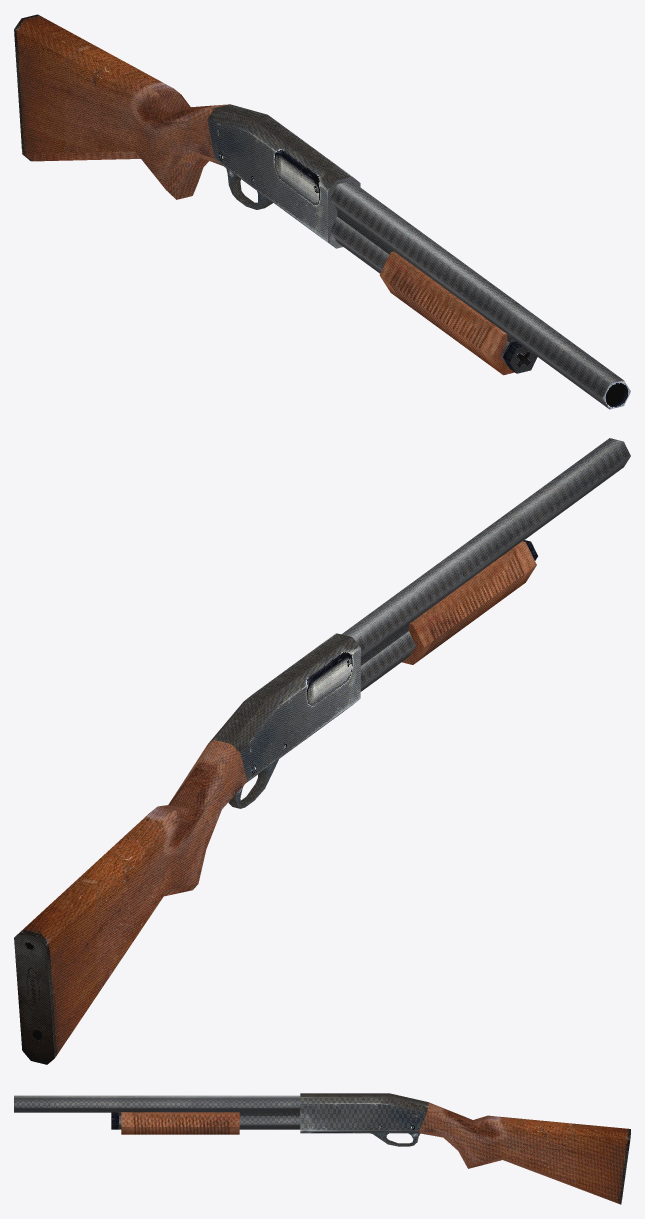
The model's file is Gun.glb.
The picture shows the model from 3 angles, top to bottom: view 1: azimuth 30°, elevation 25°; view 2: azimuth 150°, elevation 25°; view 3: azimuth 270°, elevation 25°; orthographic projection. The views are drawn at different scales.
Parts seen in each view (by area): view 1: SHOTGUN, PUMP; view 2: SHOTGUN, PUMP; view 3: SHOTGUN, PUMP.
Part boxes in pixels (x1,y1,x2,y2): SHOTGUN: (14,14,630,409); PUMP: (379,251,514,375); SHOTGUN: (14,438,630,1064); PUMP: (402,541,536,664); SHOTGUN: (14,1093,630,1204); PUMP: (121,1112,239,1134).
Size of the model in its own units: 0.043 by 0.1875 by 0.9766.
Materials: 1 (1 with a texture image).
